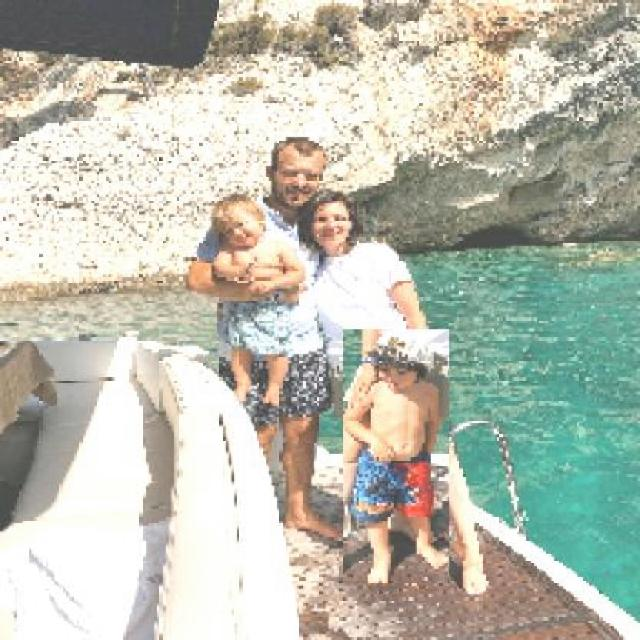child: (342, 328, 449, 586), (207, 193, 307, 413)
